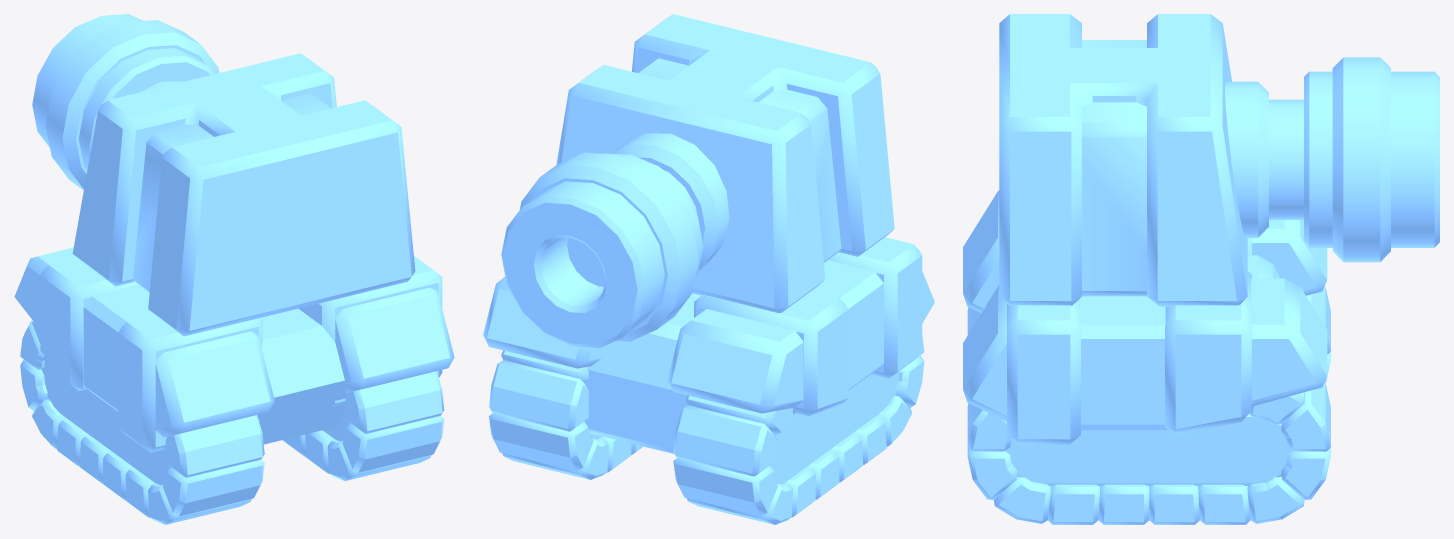
File: Tanks4.fbx
3 renders of one model, left to right at view 1: azimuth 30°, elevation 25°; view 2: azimuth 150°, elevation 25°; view 3: azimuth 270°, elevation 25°, orthographic. The views are drawn at different scales.
Visible parts, largest first — view 1: Cube.016, Cube.012, Cube.009; view 2: Cube.016, Cube.012, Cube.009; view 3: Cube.016, Cube.012, Cube.009.
Part boxes in pixels (bbox=[...]): Cube.016: bbox=[14, 247, 454, 524]; Cube.012: bbox=[72, 53, 415, 336]; Cube.009: bbox=[32, 14, 219, 190]; Cube.016: bbox=[483, 237, 934, 524]; Cube.012: bbox=[556, 14, 894, 312]; Cube.009: bbox=[501, 133, 729, 347]; Cube.016: bbox=[963, 190, 1330, 524]; Cube.012: bbox=[999, 14, 1247, 306]; Cube.009: bbox=[1225, 57, 1439, 262].
Size of the model in its own units: 1.78 by 2.03 by 2.24.
